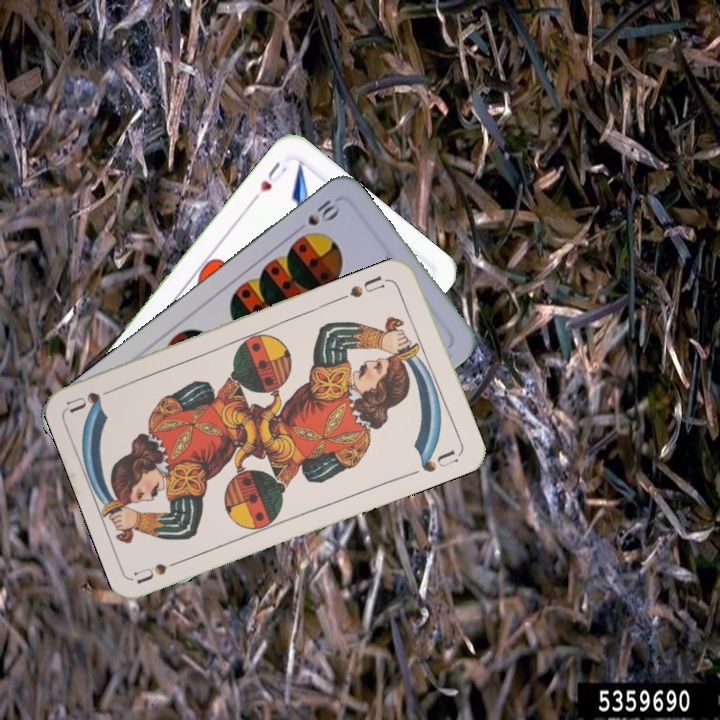HU: (248, 158, 290, 204)
S10: (290, 195, 342, 236)
SU: (131, 553, 190, 586), (346, 271, 387, 301)
